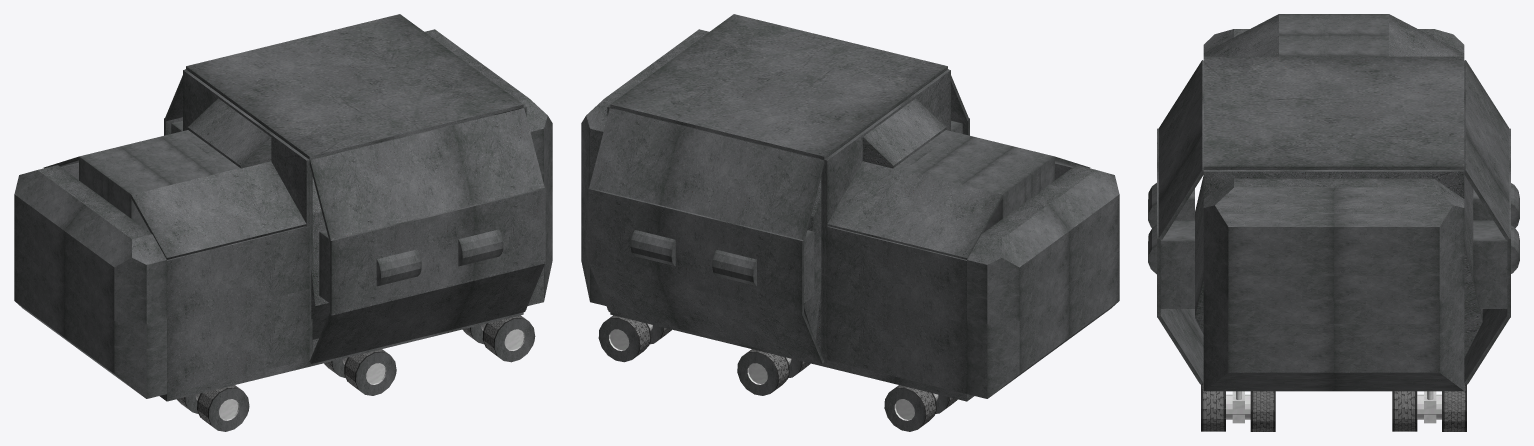
Rendered from MBV.fbx.
3 renders of one model, left to right at view 1: azimuth 30°, elevation 25°; view 2: azimuth 150°, elevation 25°; view 3: azimuth 270°, elevation 25°, orthographic. The views are drawn at different scales.
Visible parts, largest first — view 1: node_id127 (×26), node_id111 (×2), node_id119 (×2), node_id103 (×2); view 2: node_id127 (×26), node_id99 (×2), node_id83 (×2), node_id91 (×2); view 3: node_id127 (×28), node_id79, node_id107, node_id83, node_id103.
Part boxes in pixels (<box>): node_id127 (×26): <box>14,14,552,401</box>; node_id111 (×2): <box>197,385,249,431</box>; node_id119 (×2): <box>344,349,396,395</box>; node_id103 (×2): <box>482,315,535,362</box>; node_id127 (×26): <box>581,14,1119,401</box>; node_id99 (×2): <box>737,349,789,395</box>; node_id83 (×2): <box>598,315,651,362</box>; node_id91 (×2): <box>884,385,936,431</box>; node_id127 (×28): <box>1148,14,1519,419</box>; node_id79: <box>1392,391,1417,431</box>; node_id107: <box>1250,391,1275,431</box>; node_id83: <box>1442,383,1466,431</box>; node_id103: <box>1201,383,1225,431</box>.
Size of the model in its own units: 0.512 by 0.2833 by 0.3562.
Materials: 111 (111 with a texture image).
